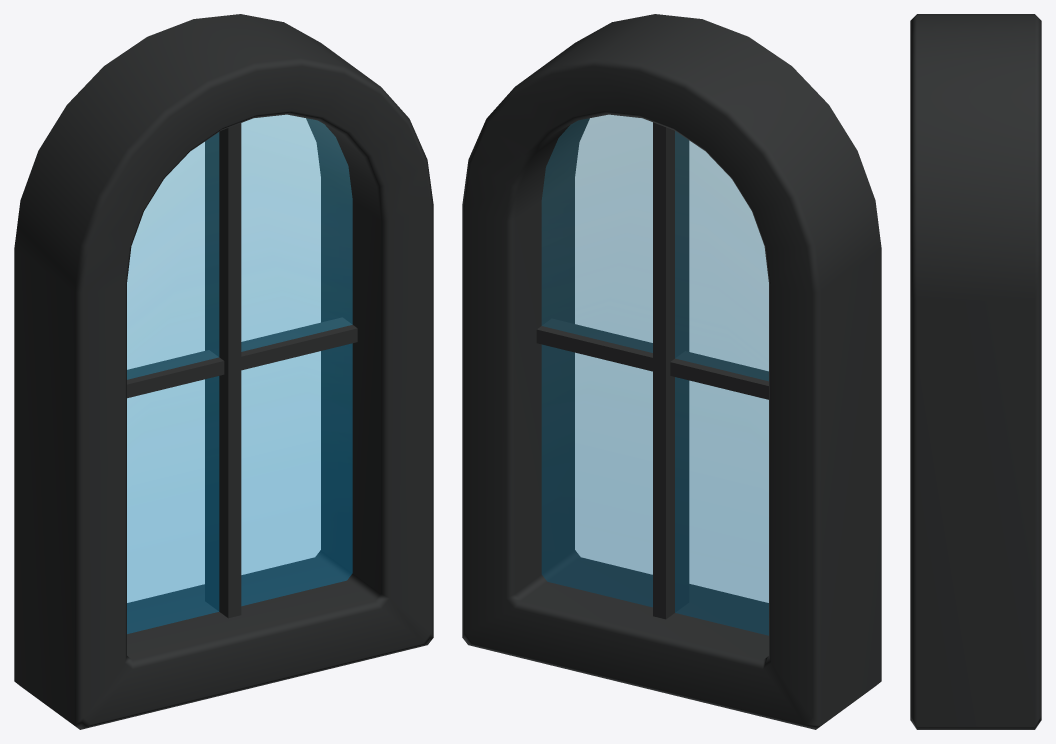
Rendered from Window_Black_15.glb.
3 renders of one model, left to right at view 1: azimuth 30°, elevation 25°; view 2: azimuth 150°, elevation 25°; view 3: azimuth 270°, elevation 25°, orthographic.
Parts seen in each view (by area): view 1: Window_Black_15; view 2: Window_Black_15; view 3: Window_Black_15.
Boxes of the visible parts, x1,y1,x2,y2 form: Window_Black_15: [14, 14, 433, 729]; Window_Black_15: [462, 14, 881, 729]; Window_Black_15: [910, 14, 1041, 729].
Size of the model in its own units: 1.24 by 2.07 by 0.4.
Materials: 2 (2 with a texture image).
